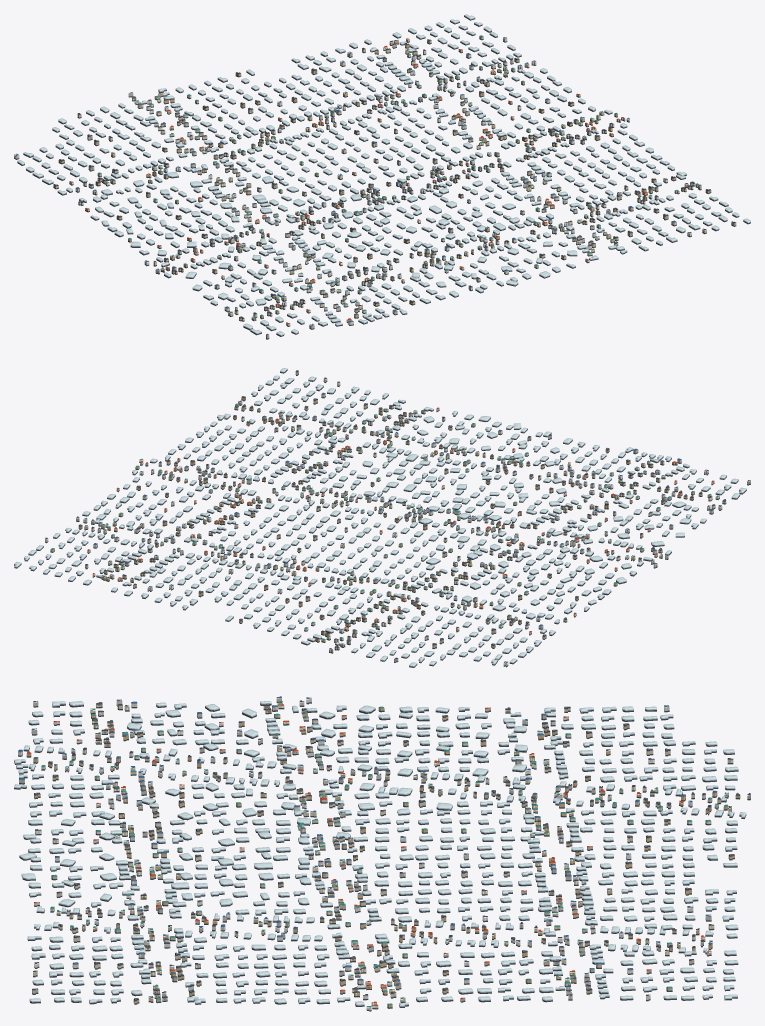
The model's file is osm_buildings_T_E01_N02.glb.
3 renders of one model, top to bottom at view 1: azimuth 30°, elevation 25°; view 2: azimuth 150°, elevation 25°; view 3: azimuth 270°, elevation 25°, orthographic. The views are drawn at different scales.
Visible parts, largest first — view 1: OSM_T_E01_N02_greenhouse_blend_p0, OSM_T_E01_N02_foundation, OSM_T_E01_N02_wall_french_ochre, OSM_T_E01_N02_wall_cream_stucco, OSM_T_E01_N02_roof_mansard_slate, OSM_T_E01_N02_wall_warm_white, OSM_T_E01_N02_greenhouse_blend_p1, OSM_T_E01_N02_wall_pastel_sand, OSM_T_E01_N02_roof_alpine_blue, OSM_T_E01_N02_roof_mint_metal, OSM_T_E01_N02_roof_mansard_deck, OSM_T_E01_N02_roof_terracotta; view 2: OSM_T_E01_N02_greenhouse_blend_p0, OSM_T_E01_N02_foundation, OSM_T_E01_N02_wall_french_ochre, OSM_T_E01_N02_wall_cream_stucco, OSM_T_E01_N02_roof_mansard_slate, OSM_T_E01_N02_wall_warm_white, OSM_T_E01_N02_greenhouse_blend_p1, OSM_T_E01_N02_wall_pastel_sand, OSM_T_E01_N02_roof_alpine_blue, OSM_T_E01_N02_roof_mint_metal, OSM_T_E01_N02_roof_mansard_deck, OSM_T_E01_N02_roof_terracotta; view 3: OSM_T_E01_N02_greenhouse_blend_p0, OSM_T_E01_N02_foundation, OSM_T_E01_N02_wall_french_ochre, OSM_T_E01_N02_wall_cream_stucco, OSM_T_E01_N02_roof_mansard_slate, OSM_T_E01_N02_greenhouse_blend_p1, OSM_T_E01_N02_wall_warm_white, OSM_T_E01_N02_wall_pastel_sand, OSM_T_E01_N02_roof_alpine_blue, OSM_T_E01_N02_roof_mint_metal, OSM_T_E01_N02_roof_mansard_deck, OSM_T_E01_N02_roof_terracotta.
Part boxes in pixels (x1,y1,x2,y2): OSM_T_E01_N02_greenhouse_blend_p0: [17, 41, 750, 335]; OSM_T_E01_N02_foundation: [14, 16, 750, 339]; OSM_T_E01_N02_wall_french_ochre: [58, 41, 711, 322]; OSM_T_E01_N02_wall_cream_stucco: [53, 47, 706, 320]; OSM_T_E01_N02_roof_mansard_slate: [53, 37, 735, 335]; OSM_T_E01_N02_wall_warm_white: [14, 38, 691, 325]; OSM_T_E01_N02_greenhouse_blend_p1: [52, 14, 497, 138]; OSM_T_E01_N02_wall_pastel_sand: [75, 36, 736, 338]; OSM_T_E01_N02_roof_alpine_blue: [14, 40, 701, 325]; OSM_T_E01_N02_roof_mint_metal: [97, 35, 699, 317]; OSM_T_E01_N02_roof_mansard_deck: [54, 54, 709, 317]; OSM_T_E01_N02_roof_terracotta: [70, 38, 647, 323]; OSM_T_E01_N02_greenhouse_blend_p0: [53, 368, 746, 664]; OSM_T_E01_N02_foundation: [14, 369, 750, 667]; OSM_T_E01_N02_wall_french_ochre: [78, 397, 711, 649]; OSM_T_E01_N02_wall_cream_stucco: [76, 378, 726, 647]; OSM_T_E01_N02_roof_mansard_slate: [45, 370, 750, 659]; OSM_T_E01_N02_wall_warm_white: [45, 382, 714, 665]; OSM_T_E01_N02_greenhouse_blend_p1: [14, 545, 445, 666]; OSM_T_E01_N02_wall_pastel_sand: [50, 371, 750, 661]; OSM_T_E01_N02_roof_alpine_blue: [76, 392, 721, 663]; OSM_T_E01_N02_roof_mint_metal: [50, 403, 719, 644]; OSM_T_E01_N02_roof_mansard_deck: [79, 396, 725, 646]; OSM_T_E01_N02_roof_terracotta: [87, 407, 713, 632]; OSM_T_E01_N02_greenhouse_blend_p0: [14, 701, 746, 1006]; OSM_T_E01_N02_foundation: [14, 701, 750, 1011]; OSM_T_E01_N02_wall_french_ochre: [26, 702, 740, 1007]; OSM_T_E01_N02_wall_cream_stucco: [33, 701, 721, 1001]; OSM_T_E01_N02_roof_mansard_slate: [32, 700, 750, 1000]; OSM_T_E01_N02_greenhouse_blend_p1: [663, 741, 738, 999]; OSM_T_E01_N02_wall_warm_white: [18, 699, 711, 1010]; OSM_T_E01_N02_wall_pastel_sand: [19, 698, 750, 1005]; OSM_T_E01_N02_roof_alpine_blue: [18, 696, 717, 997]; OSM_T_E01_N02_roof_mint_metal: [41, 701, 728, 1007]; OSM_T_E01_N02_roof_mansard_deck: [34, 702, 739, 999]; OSM_T_E01_N02_roof_terracotta: [27, 704, 711, 1005].
Bounding box in the file's own units: 1958 × 36.03 × 1950.
